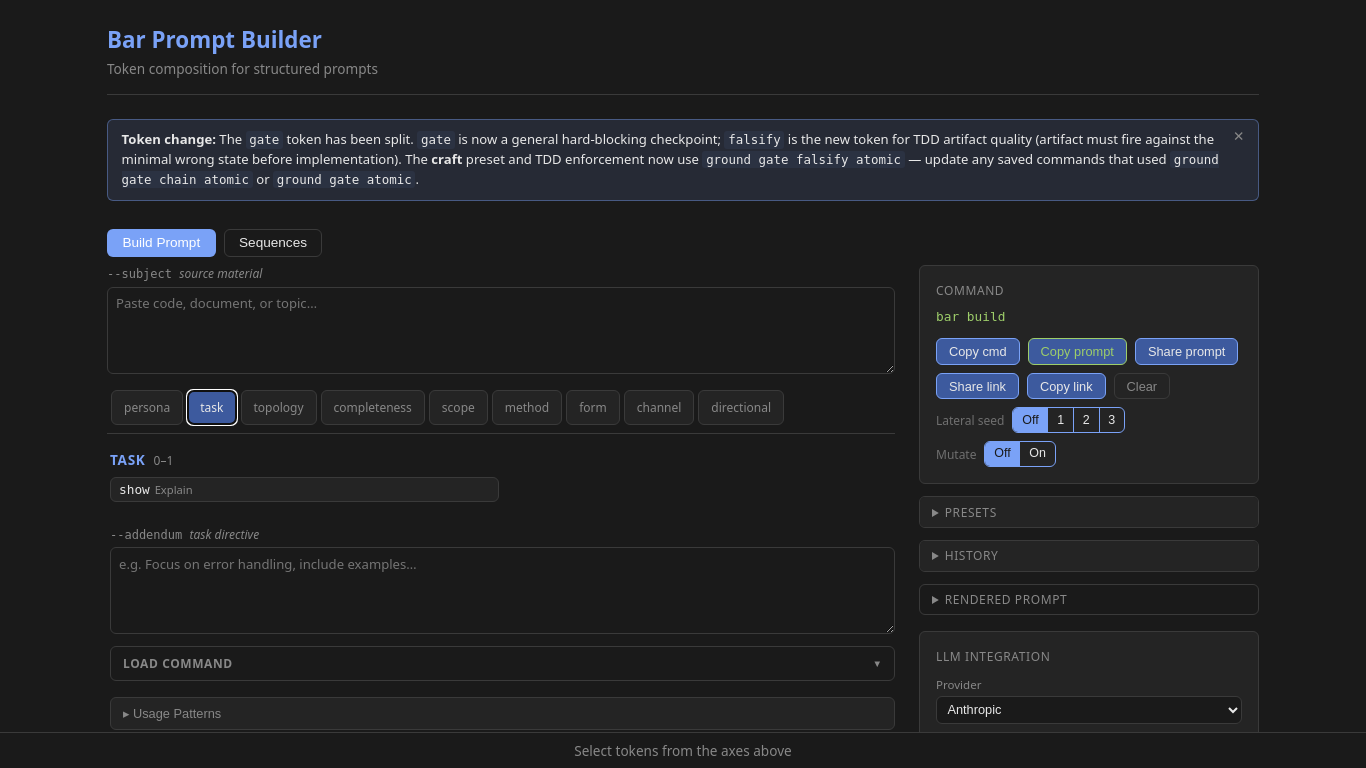
Test: Page — Mobile Stacked Persona Selects › has persona chip grids in the DOM
The image size is (1366, 768).
Click the tab with class "tab" showing "persona". click: coordinates (147, 407)
box: 111,390 -> 183,425
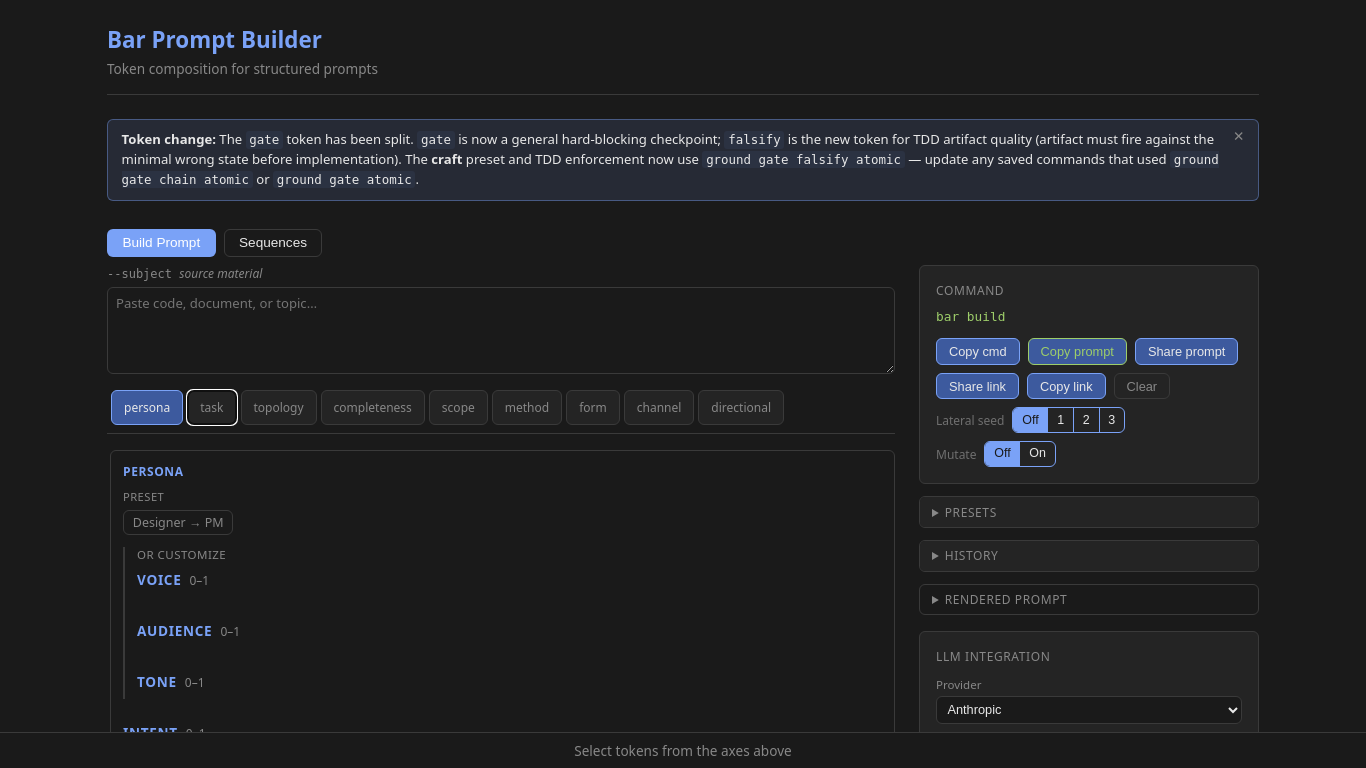
Result: the element with class "override-group" is shown at 123,547 -> 882,699
